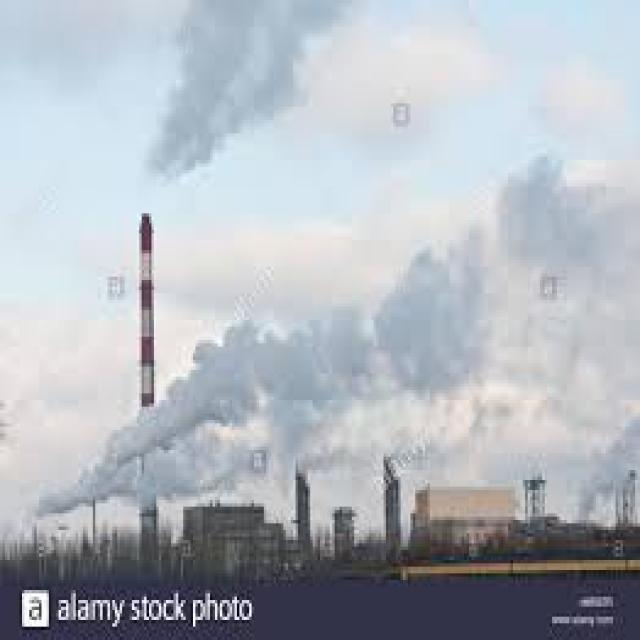Smoke: (32, 153, 640, 520), (139, 0, 354, 186)
